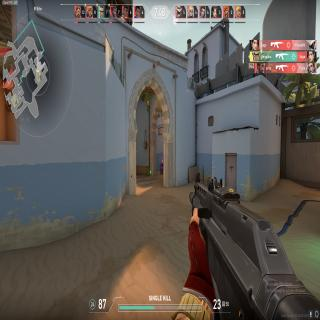ENEMY-BODY: (160, 156, 163, 176)
ENEMY-HEAD: (161, 157, 162, 160)
